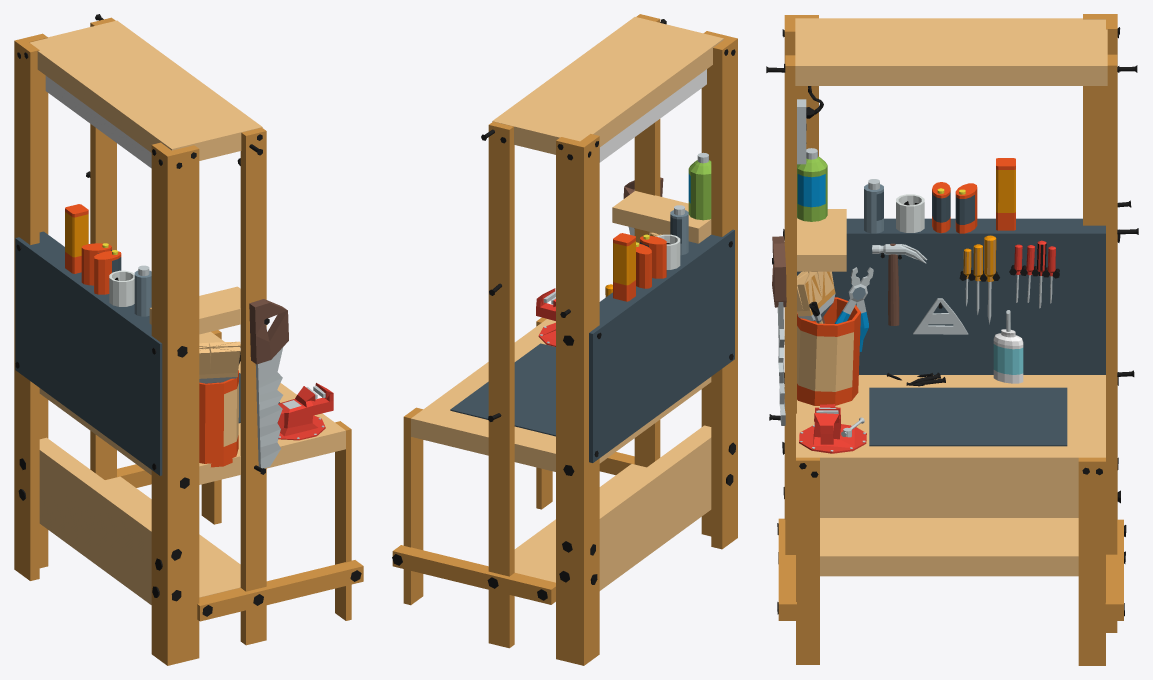
Rendered from Workbench.glb.
3 renders of one model, left to right at view 1: azimuth 30°, elevation 25°; view 2: azimuth 150°, elevation 25°; view 3: azimuth 270°, elevation 25°, orthographic. The views are drawn at different scales.
Visible parts, largest first — view 1: Bench, Hand Saw, group1673330486.103, Vice Clamp, Paint Brush, group348818362, group1677974325, group1115598653, group931417814, group1903879849; view 2: Bench, group348818362, group1416475030, Vice Clamp, group1677974325, group931417814, group1903879849, group1115598653; view 3: Bench, group1673330486.103, Vice Clamp, group1416475030, Hand Saw, Glue, Paint Brush, group348818362, group634296461, group1673330486.063, Pliers, group1115598653 (+4 smaller).
Boxes of the visible parts, x1,y1,x2,y2 form: Bench: [14, 14, 363, 665]; Hand Saw: [249, 299, 288, 468]; group1673330486.103: [199, 370, 238, 467]; Vice Clamp: [277, 383, 333, 440]; Paint Brush: [199, 341, 240, 383]; group348818362: [65, 204, 88, 273]; group1677974325: [94, 251, 121, 294]; group1115598653: [109, 270, 134, 306]; group931417814: [134, 265, 151, 316]; group1903879849: [81, 243, 111, 285]; Bench: [392, 14, 737, 665]; group348818362: [613, 233, 635, 301]; group1416475030: [688, 152, 711, 220]; Vice Clamp: [536, 288, 555, 346]; group1677974325: [640, 236, 666, 278]; group931417814: [670, 205, 688, 255]; group1903879849: [636, 244, 651, 288]; group1115598653: [657, 234, 680, 269]; Bench: [766, 14, 1138, 665]; group1673330486.103: [797, 297, 860, 405]; Vice Clamp: [799, 404, 866, 453]; group1416475030: [797, 148, 827, 221]; Hand Saw: [772, 236, 786, 425]; Glue: [993, 310, 1023, 383]; Paint Brush: [797, 271, 835, 323]; group348818362: [996, 158, 1015, 230]; group634296461: [872, 243, 927, 325]; group1673330486.063: [913, 298, 968, 334]; Pliers: [834, 267, 873, 351]; group1115598653: [896, 194, 924, 232].
Size of the model in its own units: 1.07 by 2.72 by 1.62.
